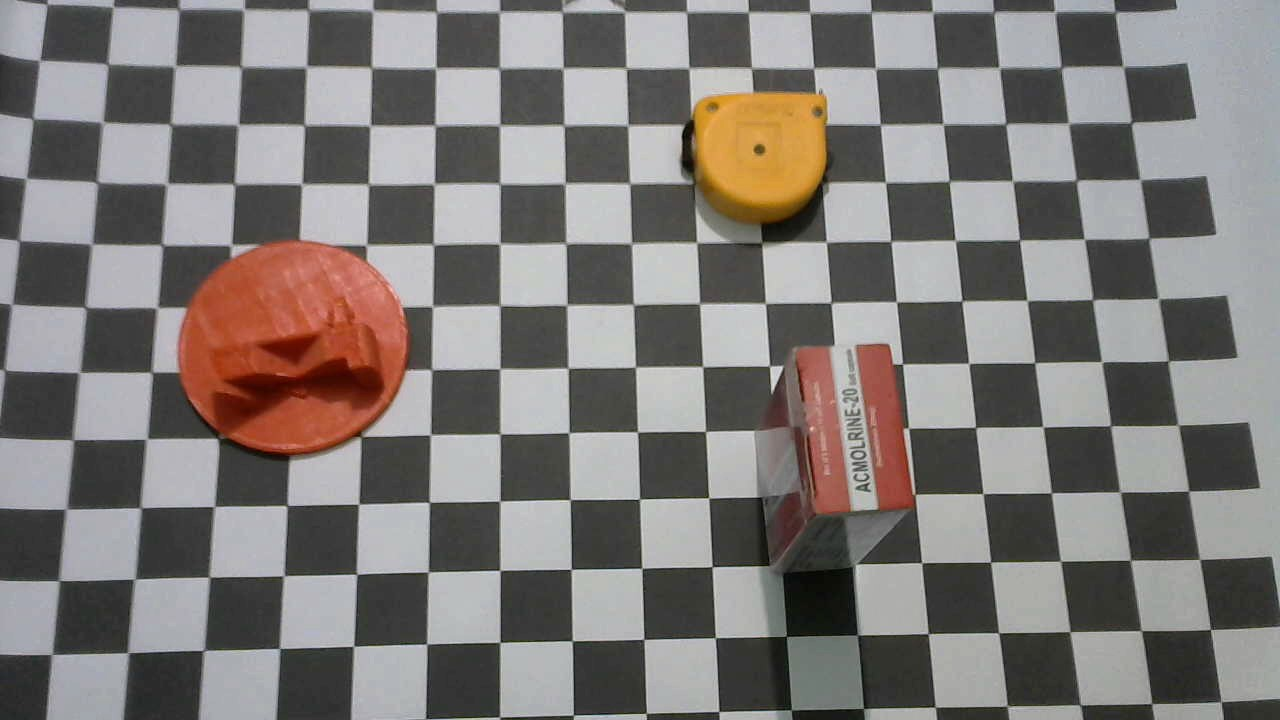blue: (688, 90, 831, 223)
green: (175, 240, 408, 455)
red: (756, 342, 915, 571)
